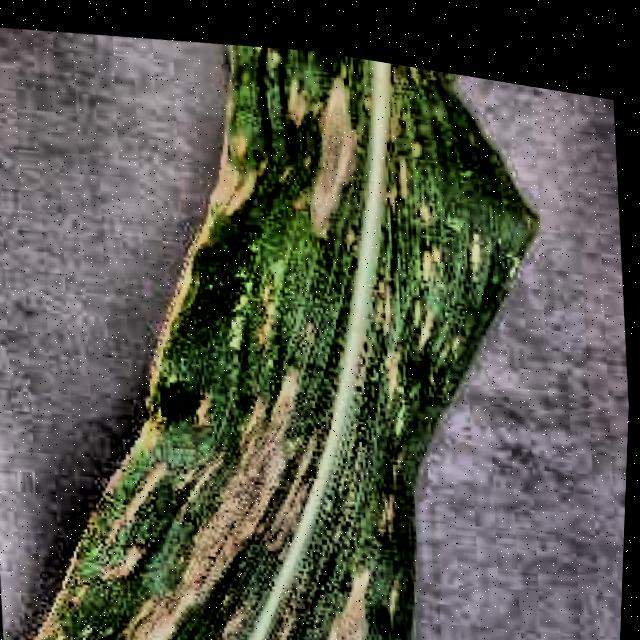blight: (4, 5, 547, 640)
